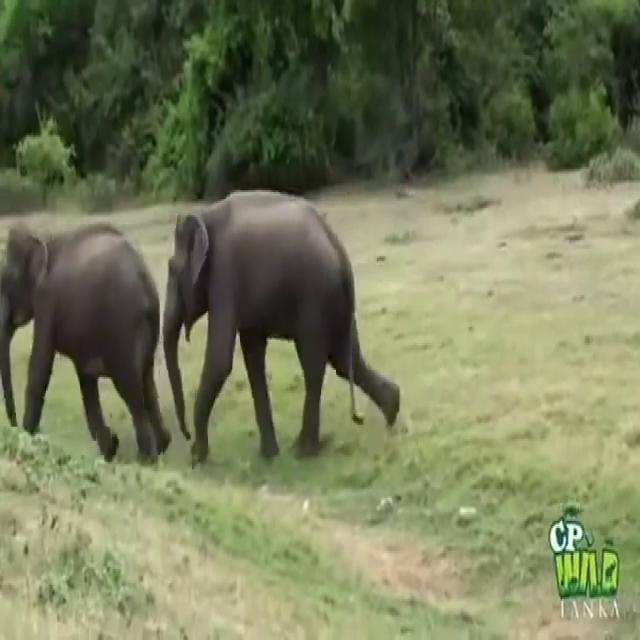Elephant: (162, 187, 400, 468), (0, 219, 171, 462)
